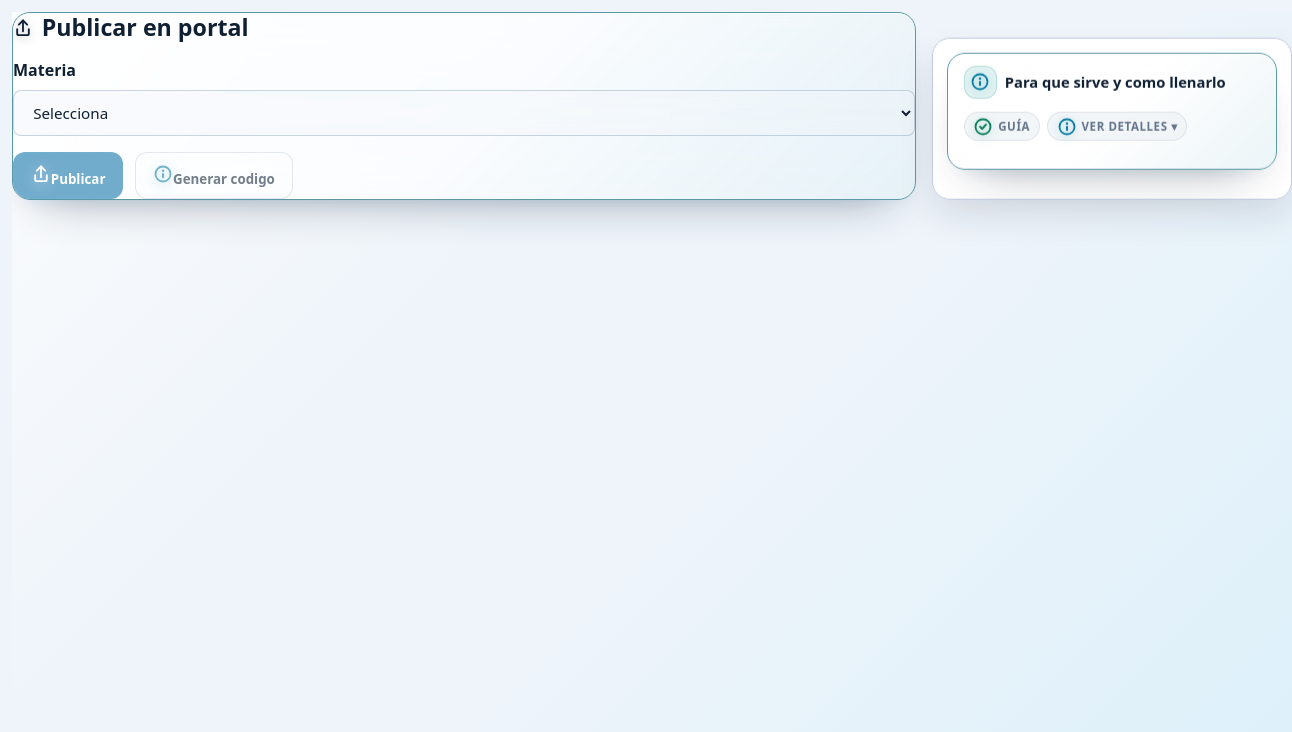
it: cobertura dominios docente › genera codigo y sincroniza resultados antes de mostrarlo
Select "Periodo 1 (ID: per-1)" in the dropdown: (464, 113) [13,90,915,136]
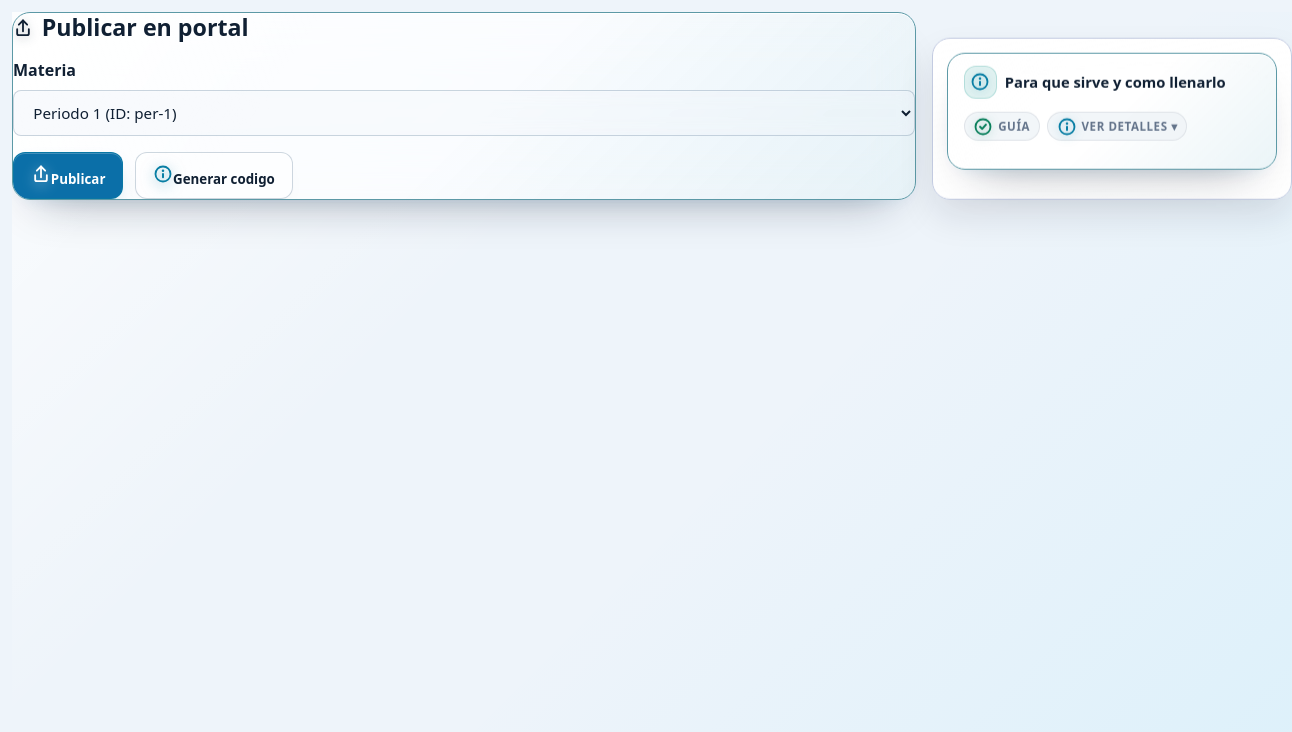
Click the button "Generar codigo": (214, 176) [135,152,293,199]
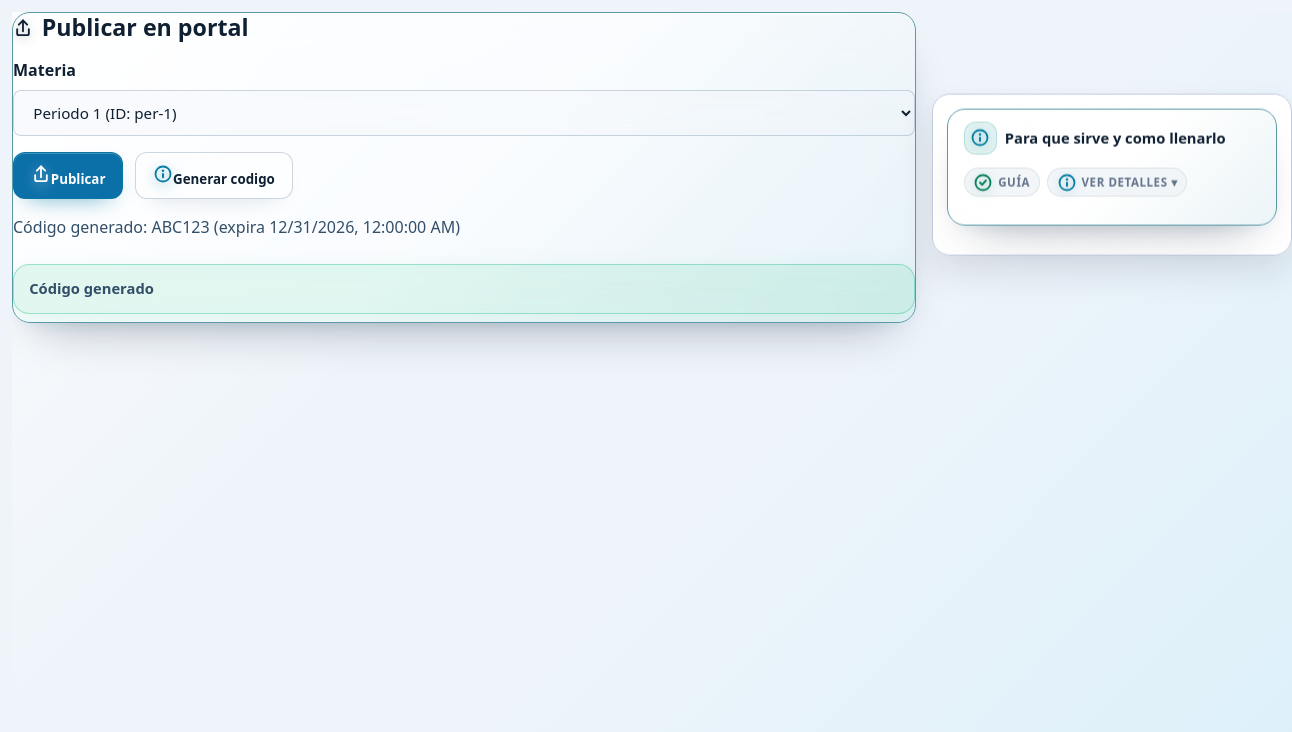
Check: the text "Código generado: ABC123 (expira 12/31/2026, 12:00:00 AM)" is shown, box [13,216,460,238]
